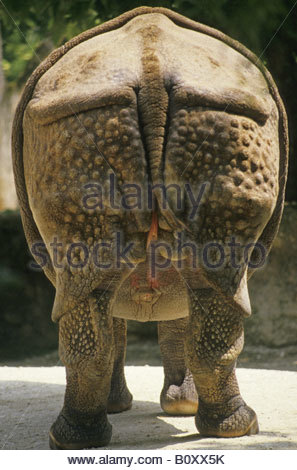rhinoceros: (9, 4, 293, 447)
